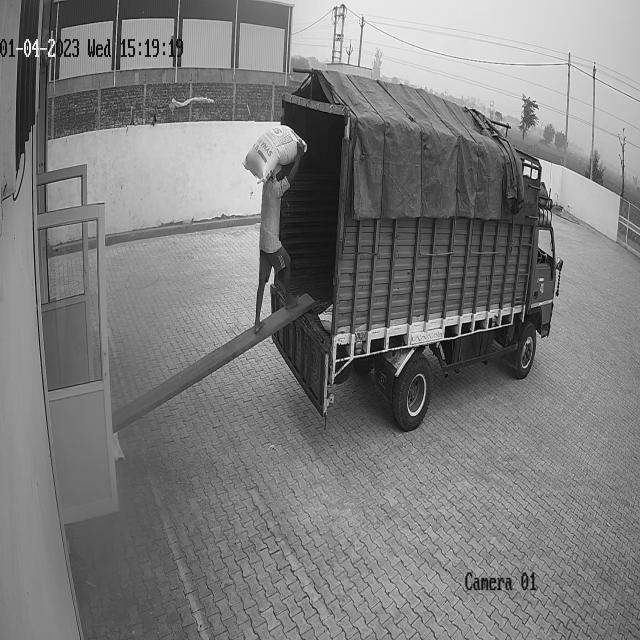sack: (243, 125, 308, 182)
